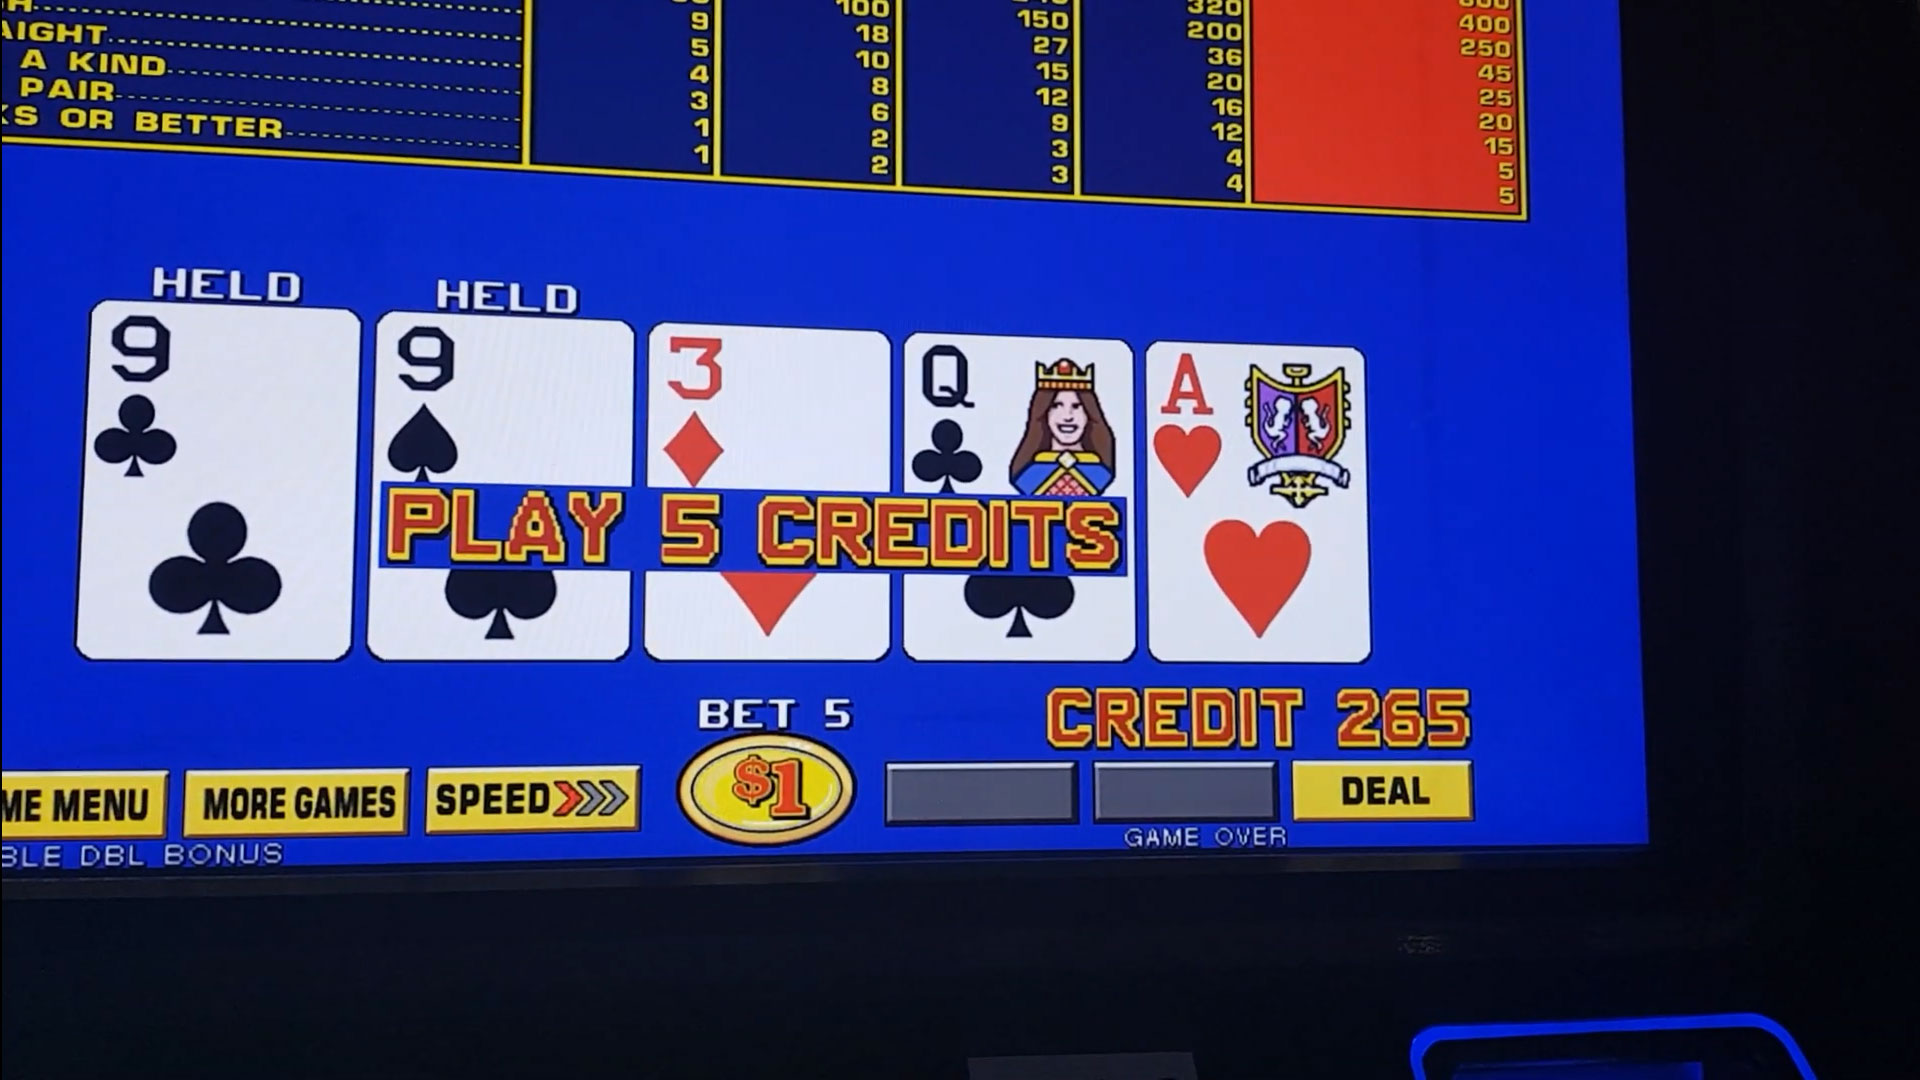C9: (96, 314, 351, 484)
CQ: (911, 342, 1130, 491)
D3: (651, 335, 884, 483)
HA: (1149, 344, 1361, 508)
S9: (375, 324, 629, 475)
